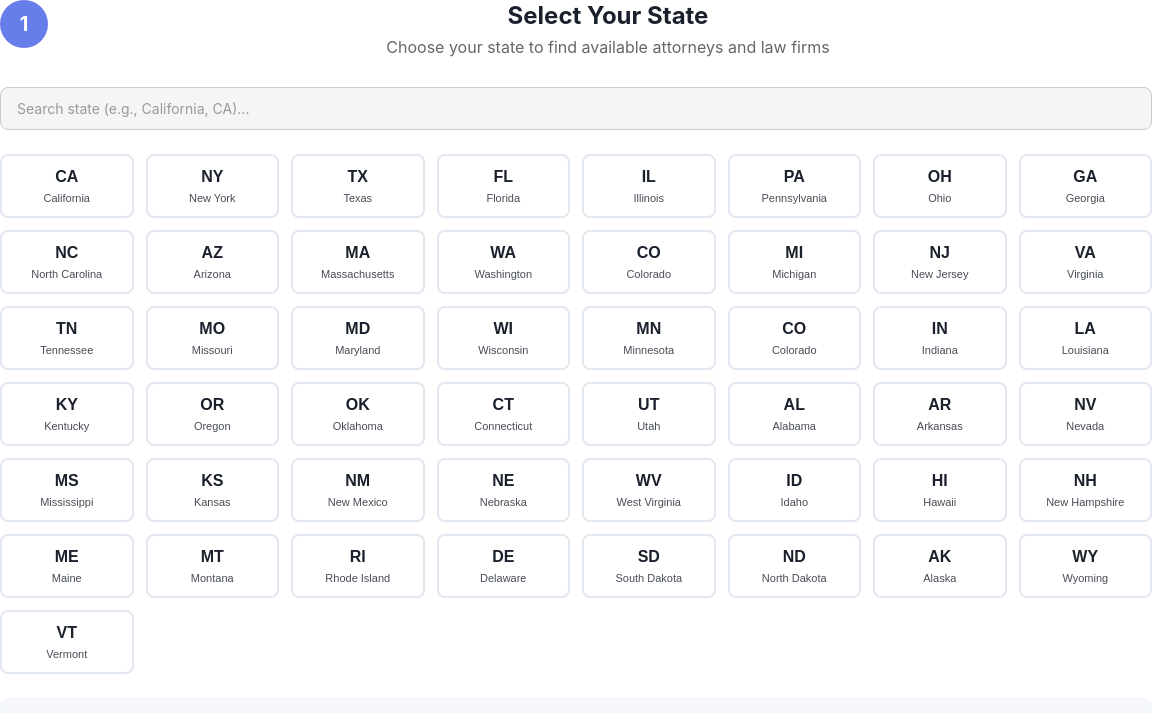
Test case: FindAttorneyStep1 › Search Functionality › shows no results message when search has no matches
Type "XYZ" into the field with test id "state-search-input" at (576, 108), box x1=0 y1=87 x2=1151 y2=130
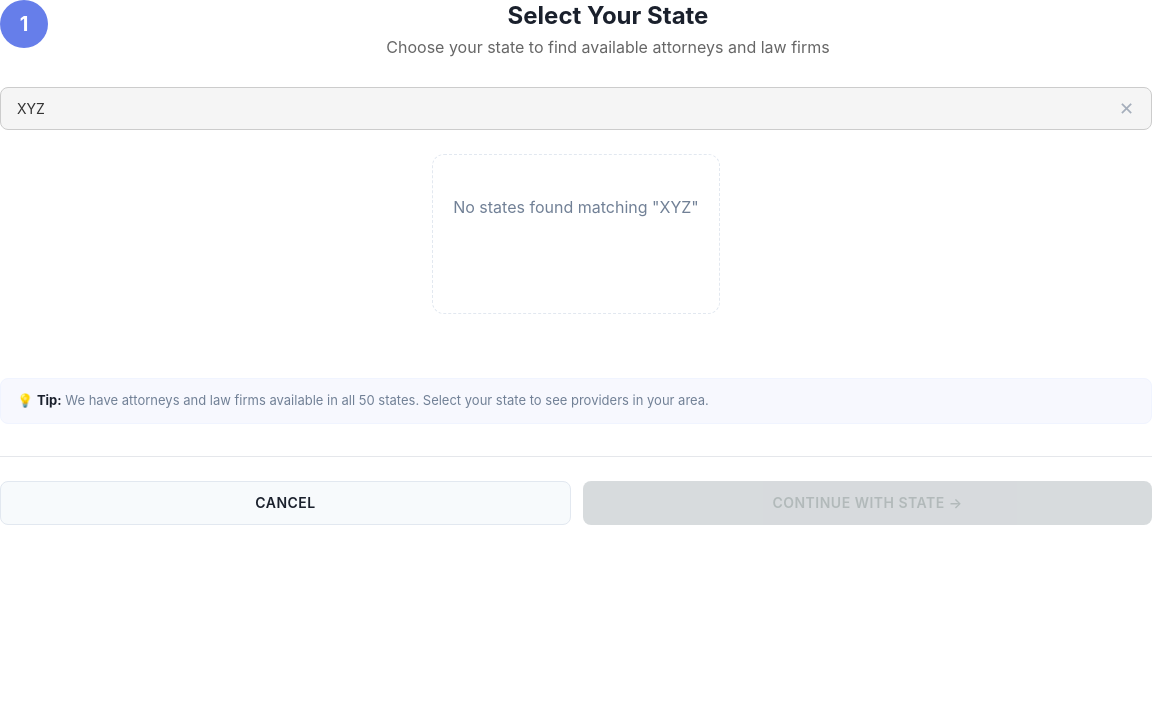
Result: the text "No states found matching \"XYZ\"" is shown at x1=453 y1=195 x2=699 y2=221
